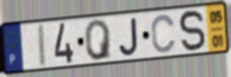4: (53, 22, 75, 65)
C: (151, 13, 178, 55)
I: (38, 22, 48, 69)
J: (118, 16, 140, 58)
Q: (83, 18, 114, 63)
S: (178, 8, 207, 55)
